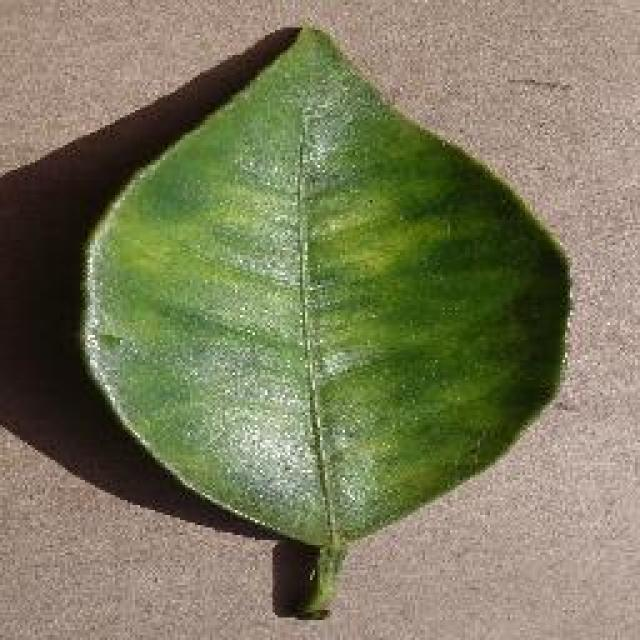Orange_Haunglongbing_Citrus_greening: (145, 123, 527, 495)
